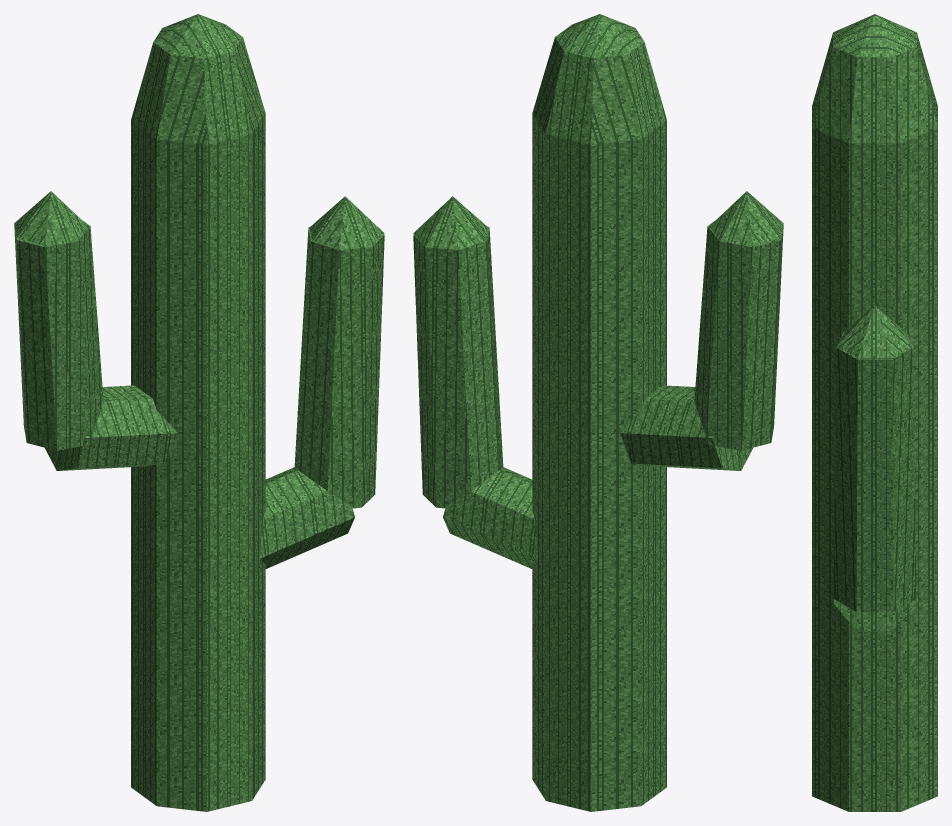
File: cactus.glb
The picture shows the model from 3 angles, left to right: view 1: azimuth 30°, elevation 25°; view 2: azimuth 150°, elevation 25°; view 3: azimuth 270°, elevation 25°; orthographic projection.
Parts seen in each view (by area): view 1: Body.010; view 2: Body.010; view 3: Body.010.
Boxes of the visible parts, x1,y1,x2,y2 form: Body.010: (14,14,384,811); Body.010: (413,14,783,811); Body.010: (812,14,937,811).
Size of the model in its own units: 1.47 by 3 by 0.4435.
1 material, 1 textured.
